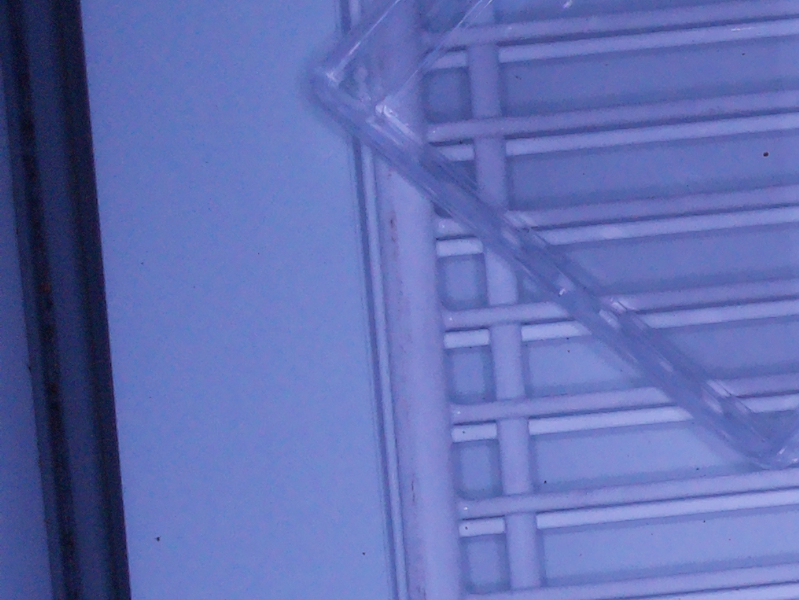plate: (312, 1, 799, 463)
